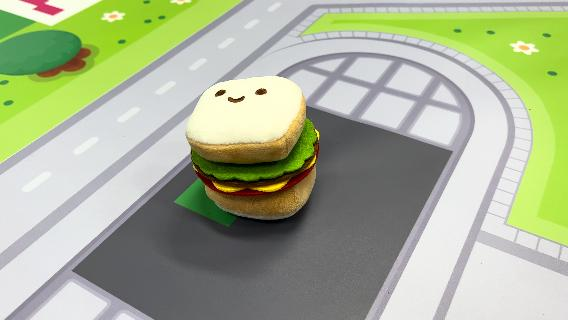sandwich: (185, 74, 322, 220)
